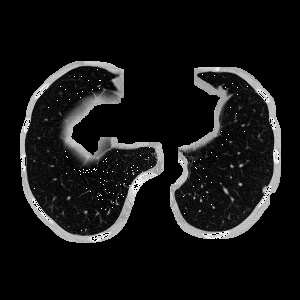PN: (262, 187, 266, 191)
